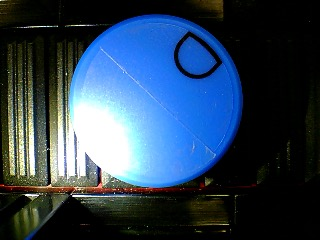MIPO1: (68, 13, 243, 188)
